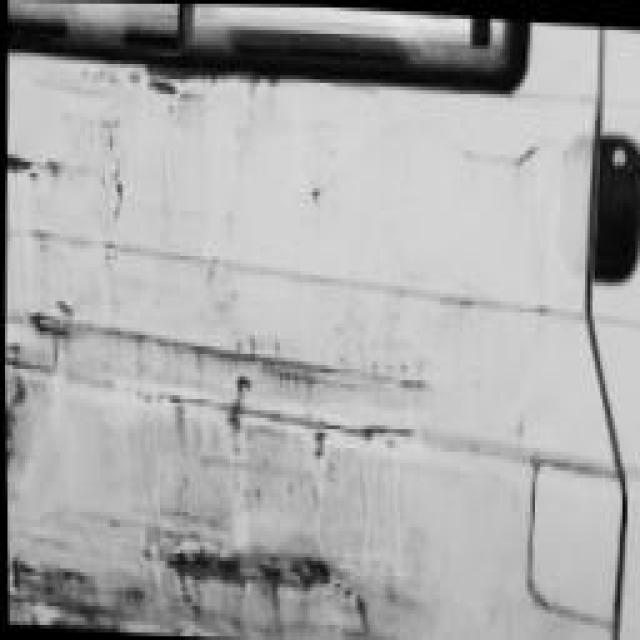Door: (0, 38, 589, 640)
